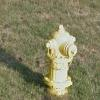Hydrant: (37, 18, 80, 97)
